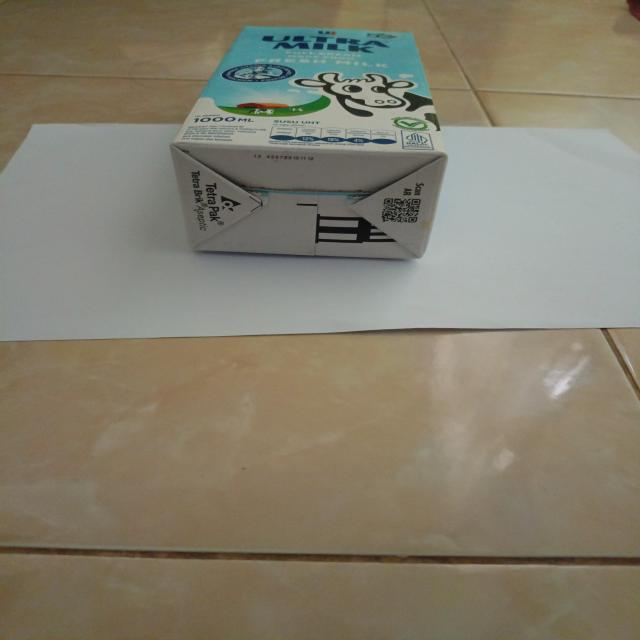indomie-mie-kocok-bandung: (172, 24, 450, 262)
